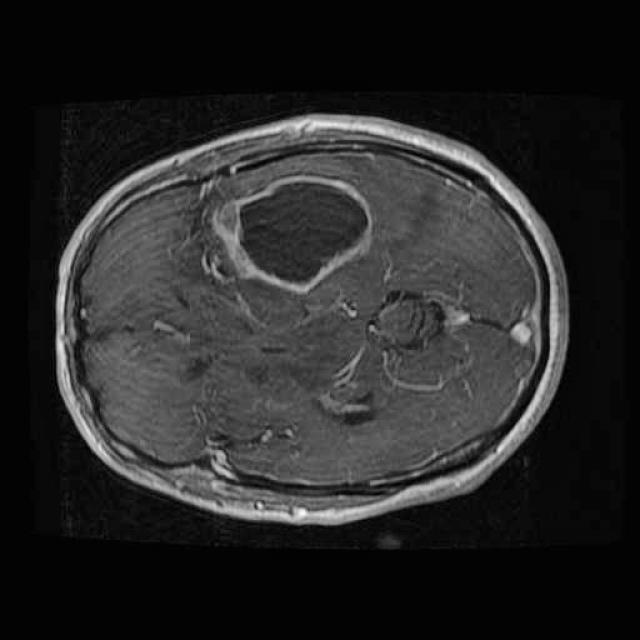Non-Tumor: (200, 165, 382, 306)
